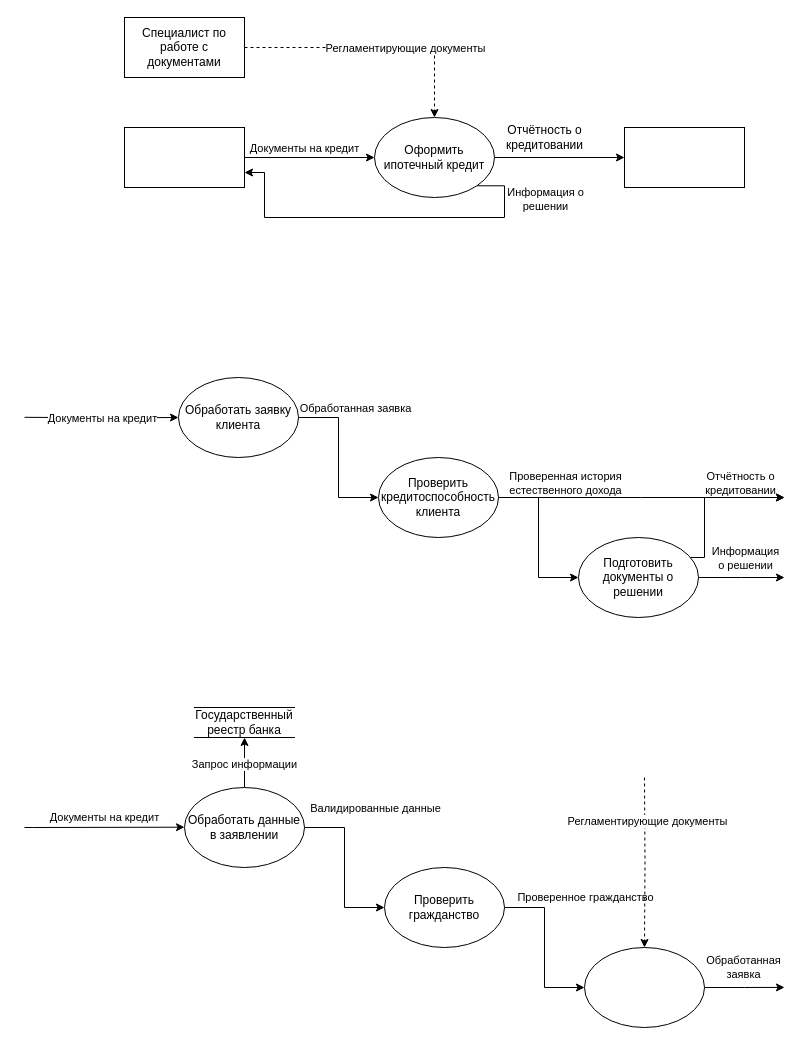
This 810x1045 diagram has some shape labels left out. The box of each missing label's shape, as (x1, y1, x2, y2) in pixels:
Клиент: (124, 126, 244, 188)
Менеджер: (624, 126, 744, 188)
Проверить паспортные данные: (584, 946, 704, 1028)
